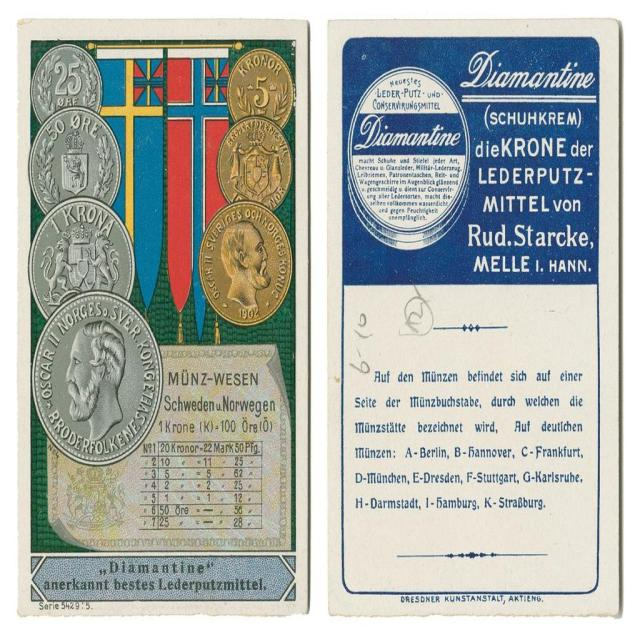Coin: (33, 288, 165, 467), (27, 198, 136, 319), (200, 201, 292, 326), (30, 102, 119, 214), (217, 112, 292, 211), (31, 44, 104, 125), (228, 47, 294, 127)
